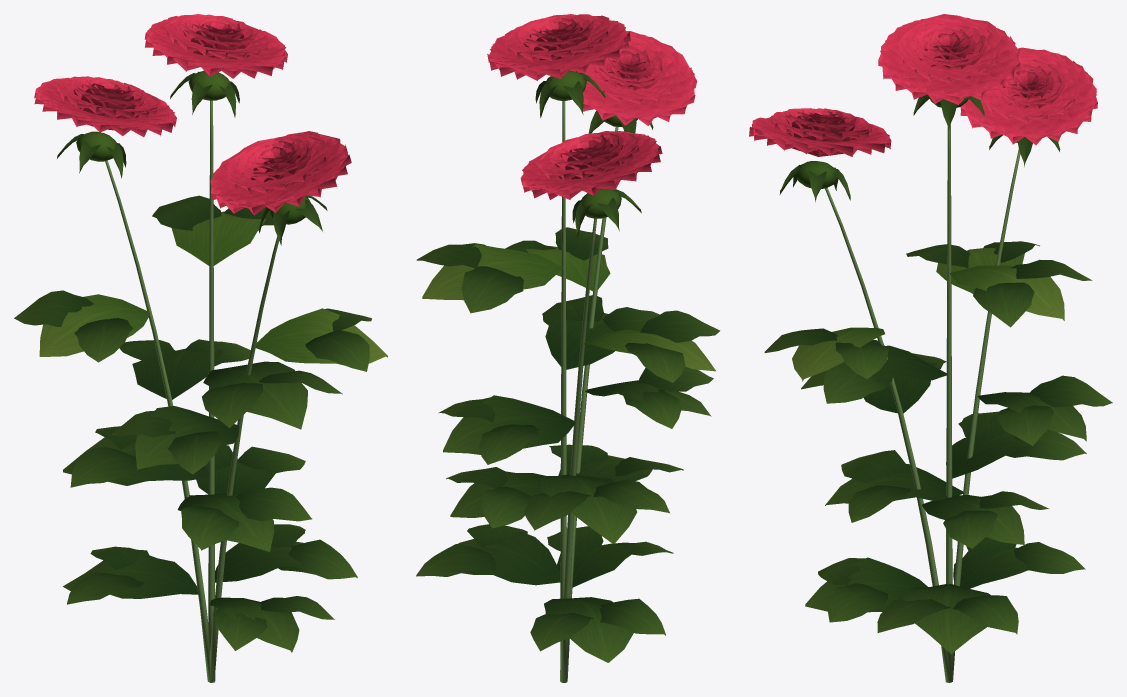
File: rose-10-lod.glb
3 renders of one model, left to right at view 1: azimuth 30°, elevation 25°; view 2: azimuth 150°, elevation 25°; view 3: azimuth 270°, elevation 25°, orthographic.
Visible parts, largest first — view 1: rose_stage_10_leaf_veins.019, rose_stage_10_rose_petal.019, rose_stage_10_young_leaf.019, rose_stage_10_stem_fibres.019; view 2: rose_stage_10_leaf_veins.019, rose_stage_10_rose_petal.019, rose_stage_10_young_leaf.019, rose_stage_10_stem_fibres.019; view 3: rose_stage_10_leaf_veins.019, rose_stage_10_rose_petal.019, rose_stage_10_stem_fibres.019, rose_stage_10_young_leaf.019.
Part boxes in pixels (bbox=[...]): rose_stage_10_leaf_veins.019: bbox=[14, 71, 371, 652]; rose_stage_10_rose_petal.019: bbox=[34, 14, 351, 215]; rose_stage_10_young_leaf.019: bbox=[39, 70, 387, 365]; rose_stage_10_stem_fibres.019: bbox=[105, 100, 279, 682]; rose_stage_10_leaf_veins.019: bbox=[416, 71, 720, 662]; rose_stage_10_rose_petal.019: bbox=[487, 14, 696, 199]; rose_stage_10_young_leaf.019: bbox=[422, 70, 715, 371]; rose_stage_10_stem_fibres.019: bbox=[560, 101, 618, 682]; rose_stage_10_leaf_veins.019: bbox=[764, 94, 1112, 653]; rose_stage_10_rose_petal.019: bbox=[749, 14, 1097, 156]; rose_stage_10_stem_fibres.019: bbox=[825, 124, 1020, 682]; rose_stage_10_young_leaf.019: bbox=[792, 97, 1064, 381].
Bounding box in the file's own units: 0.3538 × 0.7582 × 0.3855.
4 materials, 3 textured.
